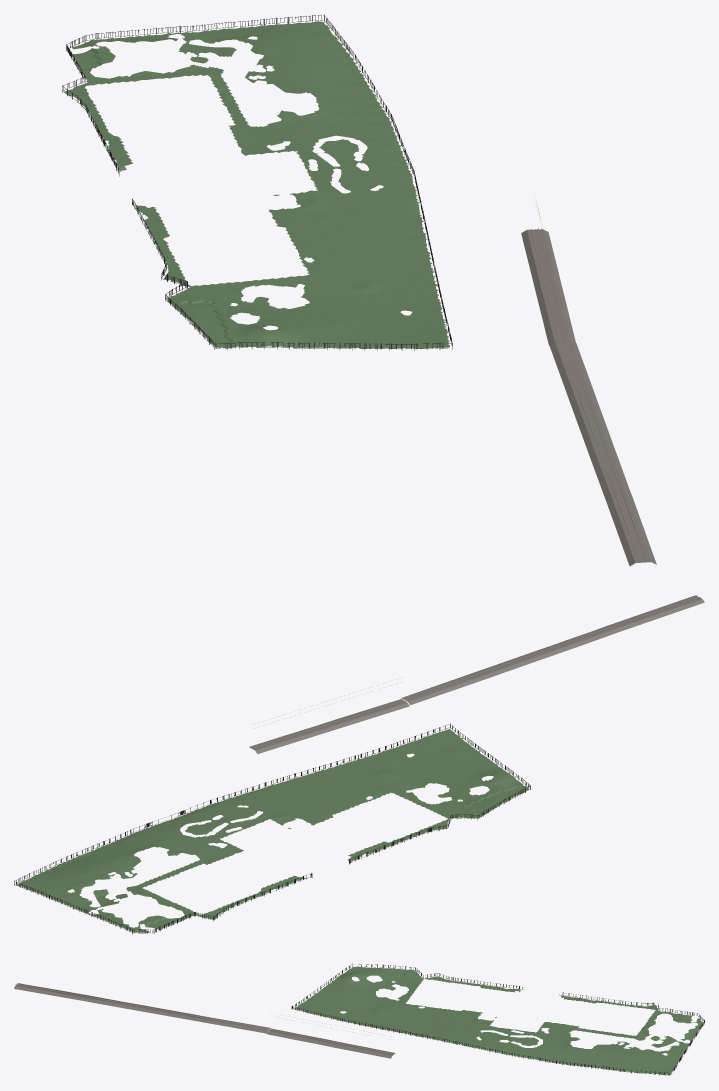
3 views of the same model, one above another, from view 1: azimuth 30°, elevation 25°; view 2: azimuth 150°, elevation 25°; view 3: azimuth 270°, elevation 25° (orthographic). The views are drawn at different scales.
Visible parts, largest first — view 1: Children's Center play-yard lawn (2020 ortho tone) (ne2), Ballast 7 (758461316), Children's Center play-yard picket fence (OSM 313031573; bla, Rail 7 +0.72; view 2: Children's Center play-yard lawn (2020 ortho tone) (ne2), Ballast 7 (758461316), Children's Center play-yard picket fence (OSM 313031573; bla, Rail 7 +0.72; view 3: Children's Center play-yard lawn (2020 ortho tone) (ne2), Ballast 7 (758461316), Children's Center play-yard picket fence (OSM 313031573; bla, Rail 7 +0.72.
Boxes of the visible parts, box(x1,y1,x2,y2) form: Children's Center play-yard lawn (2020 ortho tone) (ne2): box(64, 21, 449, 349); Ballast 7 (758461316): box(521, 229, 656, 566); Children's Center play-yard picket fence (OSM 313031573; bla: box(62, 14, 452, 350); Rail 7 +0.72: box(531, 228, 646, 561); Children's Center play-yard lawn (2020 ortho tone) (ne2): box(17, 729, 528, 933); Ballast 7 (758461316): box(249, 595, 704, 754); Children's Center play-yard picket fence (OSM 313031573; bla: box(14, 724, 530, 934); Rail 7 +0.72: box(250, 595, 700, 748); Children's Center play-yard lawn (2020 ortho tone) (ne2): box(294, 967, 702, 1074); Ballast 7 (758461316): box(14, 983, 395, 1058); Children's Center play-yard picket fence (OSM 313031573; bla: box(291, 963, 704, 1075); Rail 7 +0.72: box(16, 983, 394, 1054).
Bounding box in the file's own units: 93.34 × 10.12 × 261.
